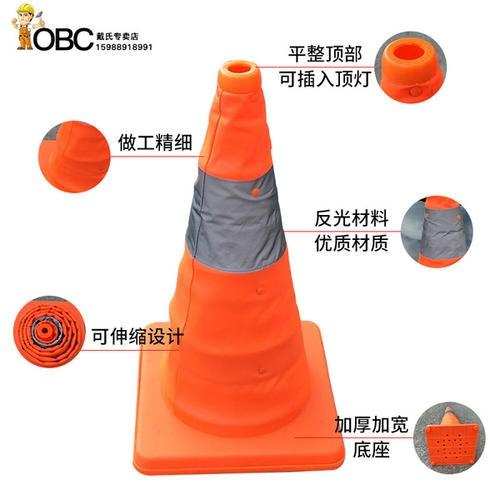cone_barrel: (145, 54, 323, 446)
